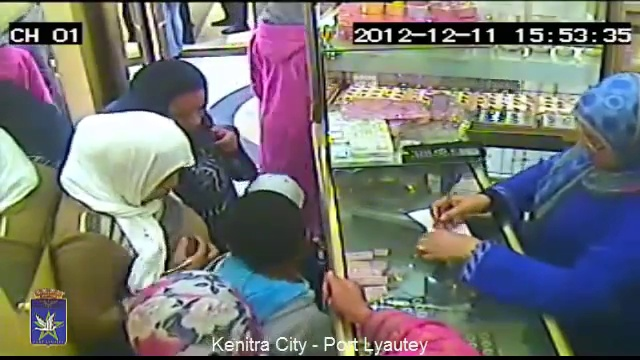face: (576, 117, 633, 170), (163, 88, 206, 133)
